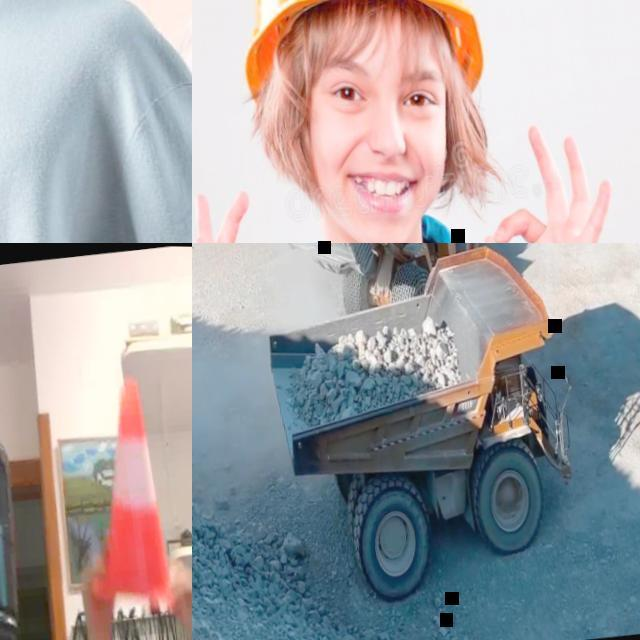helmet: (222, 0, 492, 110)
